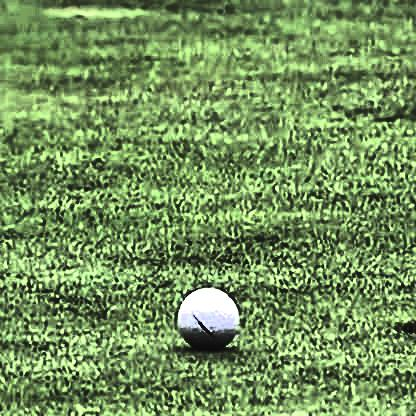golfball: (175, 284, 238, 346)
